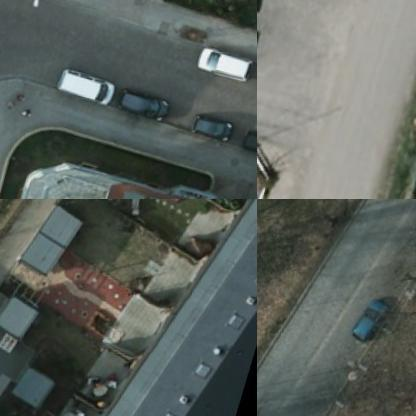car: (348, 290, 392, 346), (116, 80, 176, 121), (192, 108, 236, 140), (246, 124, 256, 155)
van: (56, 65, 118, 108), (194, 42, 257, 78)
